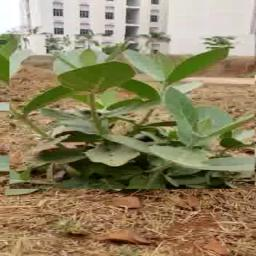CALOTROPIS: (10, 34, 256, 190)
